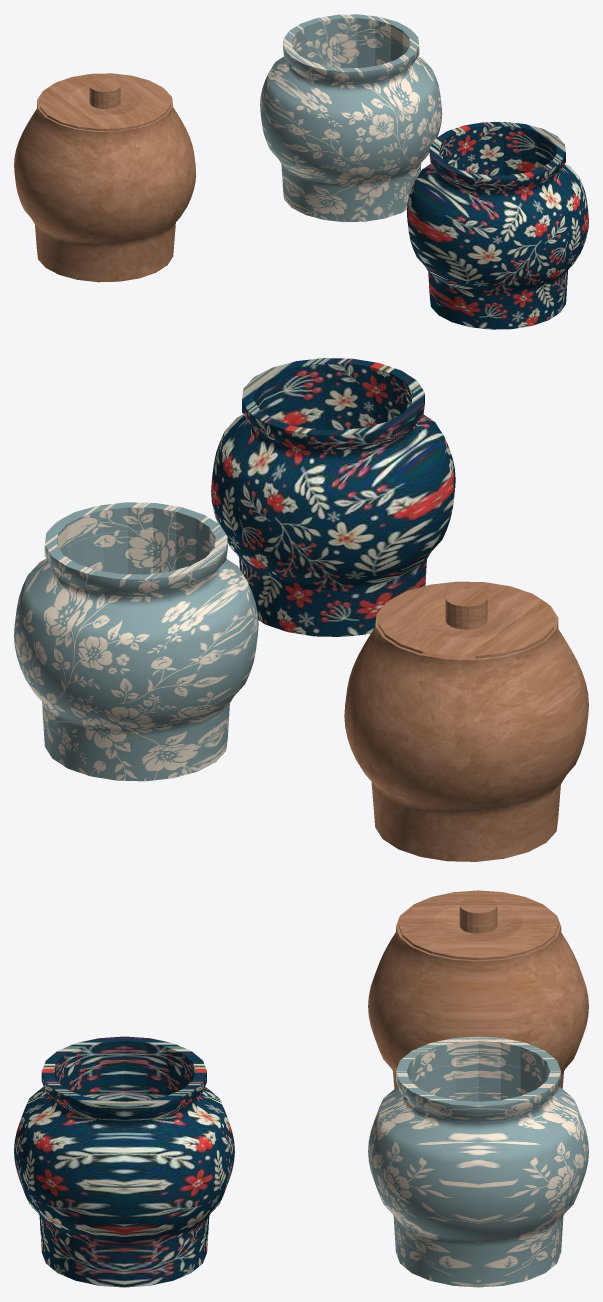
The model's file is Pots.fbx.
The picture shows the model from 3 angles, top to bottom: view 1: azimuth 30°, elevation 25°; view 2: azimuth 150°, elevation 25°; view 3: azimuth 270°, elevation 25°; orthographic projection. The views are drawn at different scales.
Parts seen in each view (by area): view 1: pCylinder4, pCylinder3, pCylinder1, pCylinder2; view 2: pCylinder3, pCylinder4, pCylinder1, pCylinder2; view 3: pCylinder3, pCylinder4, pCylinder1, pCylinder2.
Boxes of the visible parts, x1=… form: pCylinder4: x1=407, y1=121, x2=588, y2=329; pCylinder3: x1=260, y1=14, x2=442, y2=222; pCylinder1: x1=14, y1=88, x2=195, y2=282; pCylinder2: x1=39, y1=73, x2=170, y2=130; pCylinder3: x1=14, y1=502, x2=258, y2=781; pCylinder4: x1=211, y1=358, x2=455, y2=636; pCylinder1: x1=344, y1=602, x2=588, y2=861; pCylinder2: x1=378, y1=581, x2=554, y2=658; pCylinder3: x1=368, y1=1036, x2=588, y2=1287; pCylinder4: x1=14, y1=1036, x2=234, y2=1287; pCylinder1: x1=368, y1=908, x2=588, y2=1088; pCylinder2: x1=398, y1=890, x2=558, y2=960.
Bounding box in the file's own units: 15.76 × 6.25 × 16.08.
